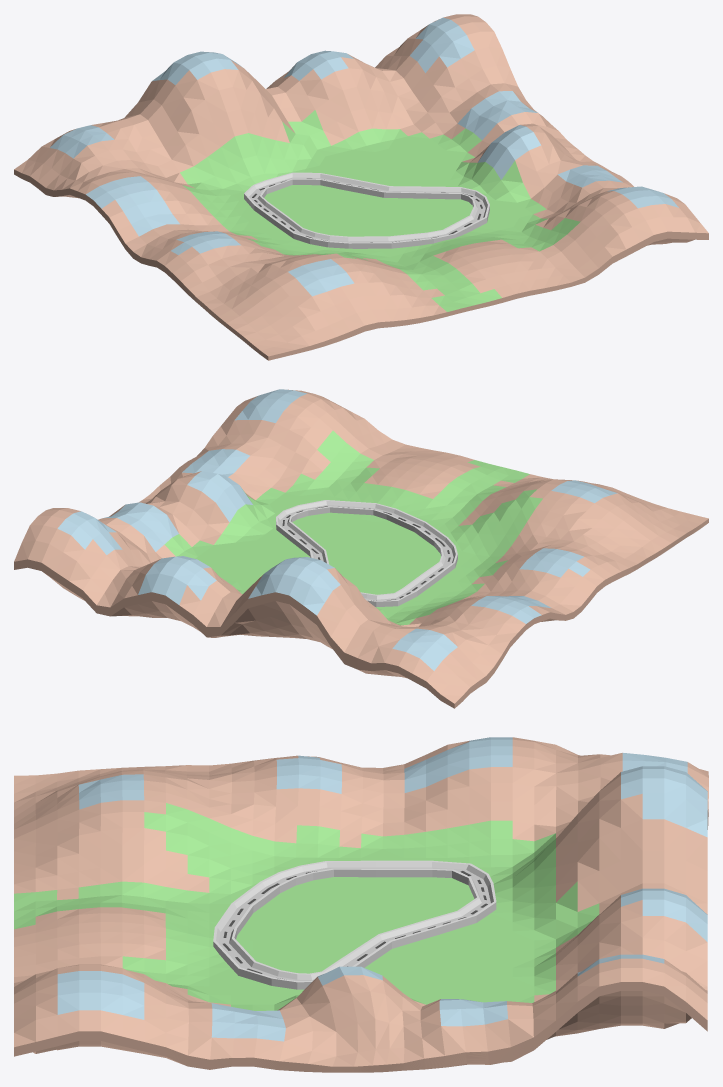
Rendered from Course01.fbx.
3 renders of one model, top to bottom at view 1: azimuth 30°, elevation 25°; view 2: azimuth 150°, elevation 25°; view 3: azimuth 270°, elevation 25°, orthographic. The views are drawn at different scales.
Parts seen in each view (by area): view 1: Cube.002, Cube.001, Cube; view 2: Cube.002, Cube.001, Cube; view 3: Cube.002, Cube.001, Cube.
Part boxes in pixels (box(x1,y1,x2,y2)): Cube.002: box(14, 14, 708, 360); Cube.001: box(244, 172, 489, 248); Cube: box(249, 177, 485, 242); Cube.002: box(14, 389, 708, 708); Cube.001: box(276, 500, 457, 607); Cube: box(280, 505, 453, 600); Cube.002: box(14, 737, 708, 1072); Cube.001: box(213, 860, 496, 989); Cube: box(219, 867, 490, 980).
Size of the model in its own units: 27474 by 5308 by 27325.
